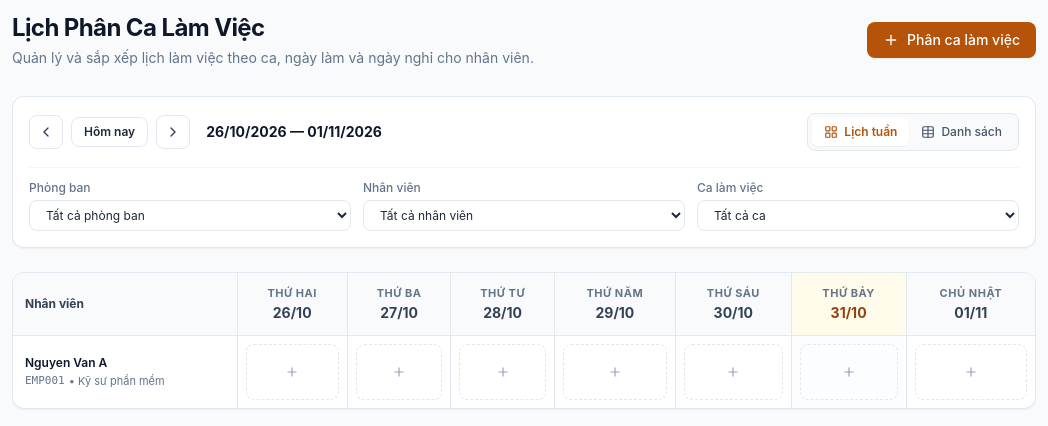
Test: SchedulesPage Component & User Flows › 3. switches between weekly grid view and table view
expect the heading "Lịch Phân Ca Làm Việc" is shown: met, box [12,13,265,42]
Click the button "Danh sách".
click(962, 132)  # box [910,118,1014,146]
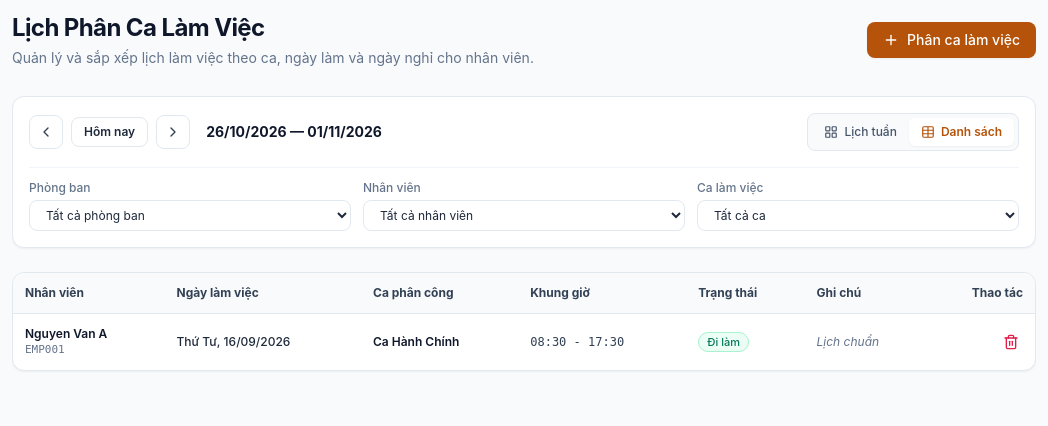
expect the text "Ca làm việc" is shown: met, box [697,180,763,195]
expect the column heading "Ngày làm việc" is shown: met, box [164,273,361,314]
expect the text "Ca Hành Chính" is shown: met, box [361,314,518,370]
